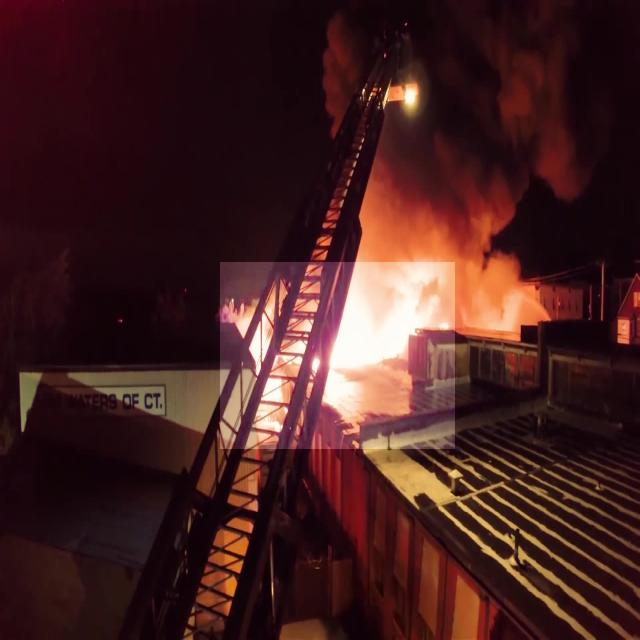Fire: (220, 262, 455, 449)
